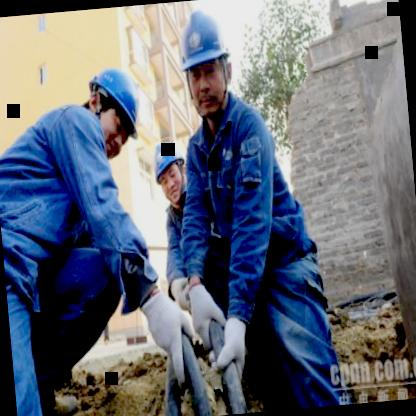helmet: (168, 0, 242, 128), (85, 64, 153, 152), (150, 134, 190, 210)
